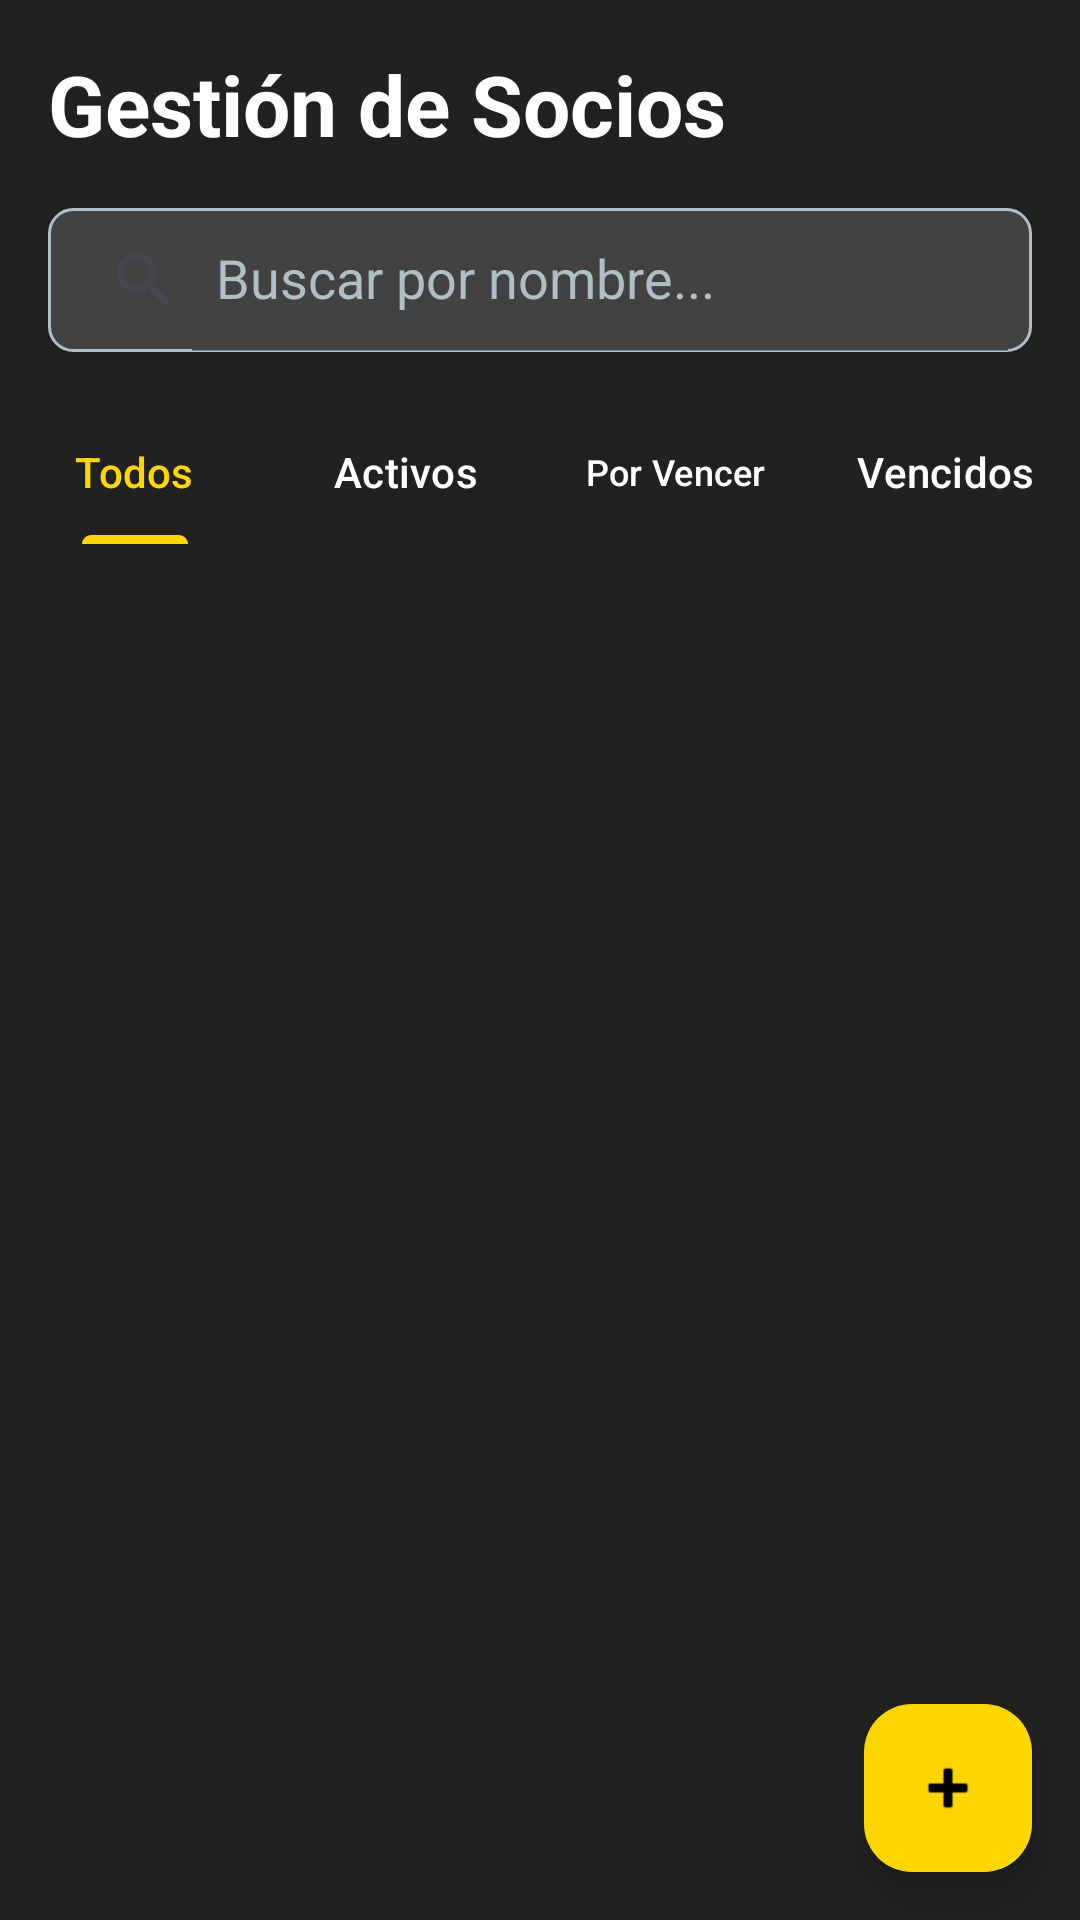

Icons on this 1080*1920 Android screen, each with its box as (x1,y1,x2,y2):
add: (864,1704,1032,1872)
